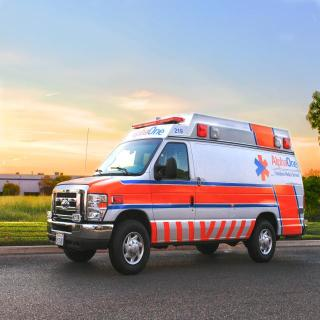Ambulance: (32, 86, 314, 286)
